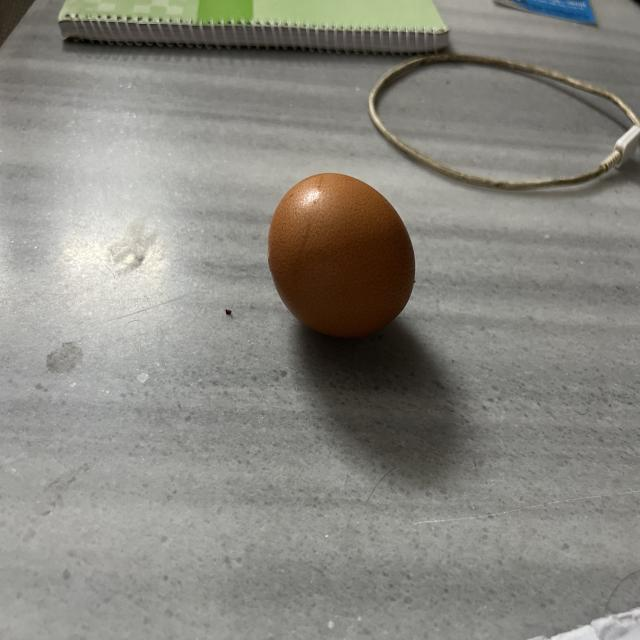egg: (267, 171, 418, 341)
